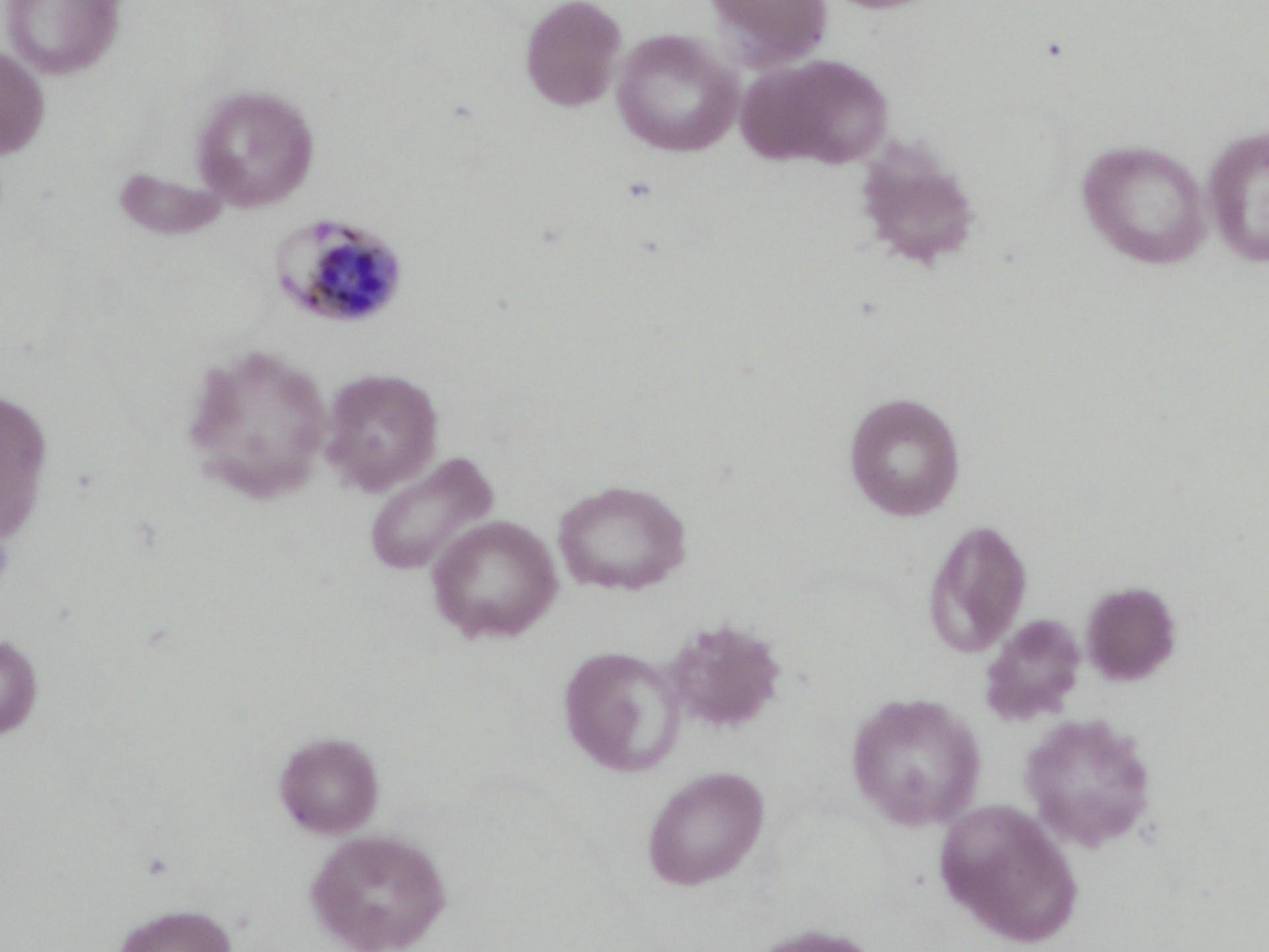Infected: (279, 219, 397, 319)
Uninfected: (189, 355, 325, 496), (942, 806, 1073, 935), (741, 58, 882, 163), (854, 702, 976, 823), (312, 839, 441, 951), (432, 523, 556, 638), (861, 138, 974, 261), (1028, 723, 1143, 843), (615, 34, 736, 147), (1081, 147, 1201, 260), (560, 492, 690, 595), (372, 457, 492, 568), (850, 397, 958, 517), (565, 653, 676, 769), (198, 92, 312, 203), (650, 774, 763, 883), (326, 376, 436, 487), (931, 530, 1026, 648), (676, 630, 778, 723), (527, 3, 620, 102), (281, 741, 375, 833), (987, 623, 1079, 715), (1087, 591, 1174, 680), (713, 2, 827, 68), (9, 1, 113, 73), (1211, 135, 1269, 258), (118, 172, 218, 233), (1, 402, 44, 536), (1, 55, 44, 155), (123, 913, 227, 949), (0, 643, 34, 731)
